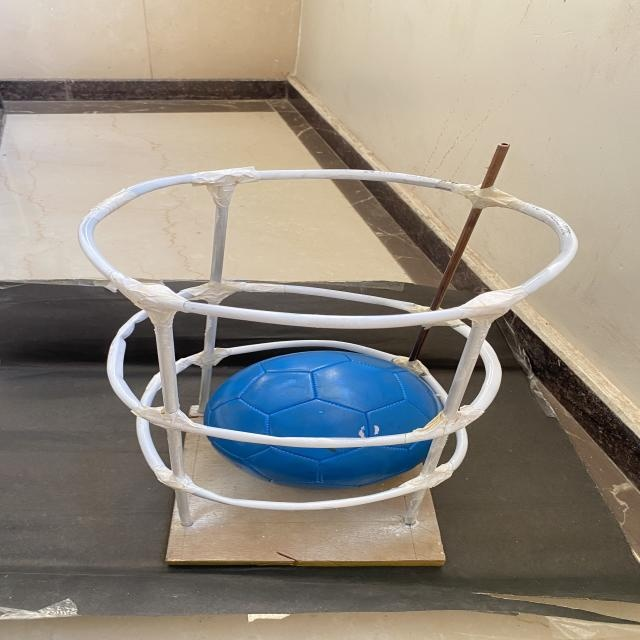blue_ball: (187, 338, 470, 497)
silo: (25, 138, 608, 583)
